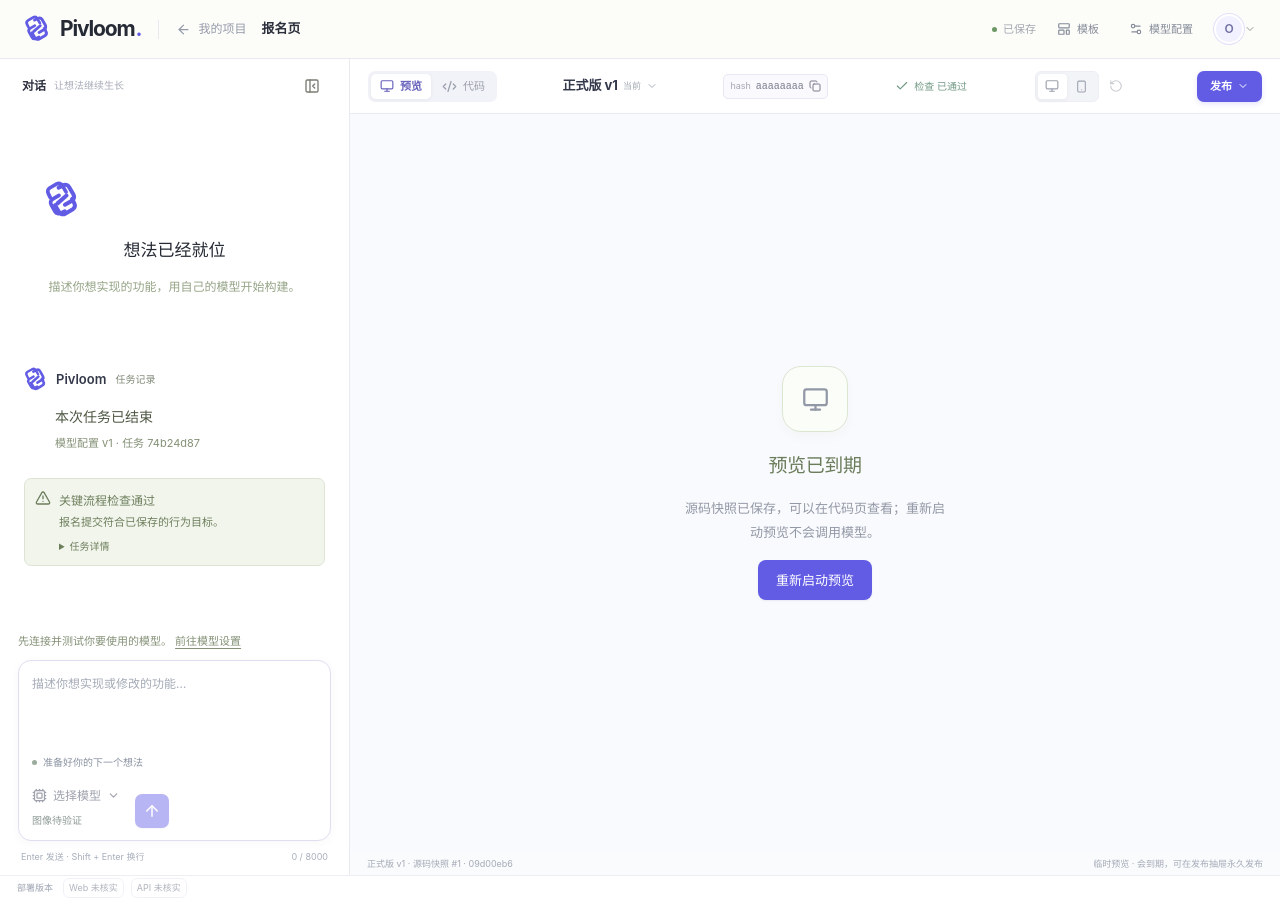
Scenario: keeps an old flat Check labeled with its original count rather than inferring five groups
What coordinates should you click on to do the following:
click the button with class "a-toolbar-check"
I would click on:
 (931, 86)
Its box is [889, 74, 973, 98].
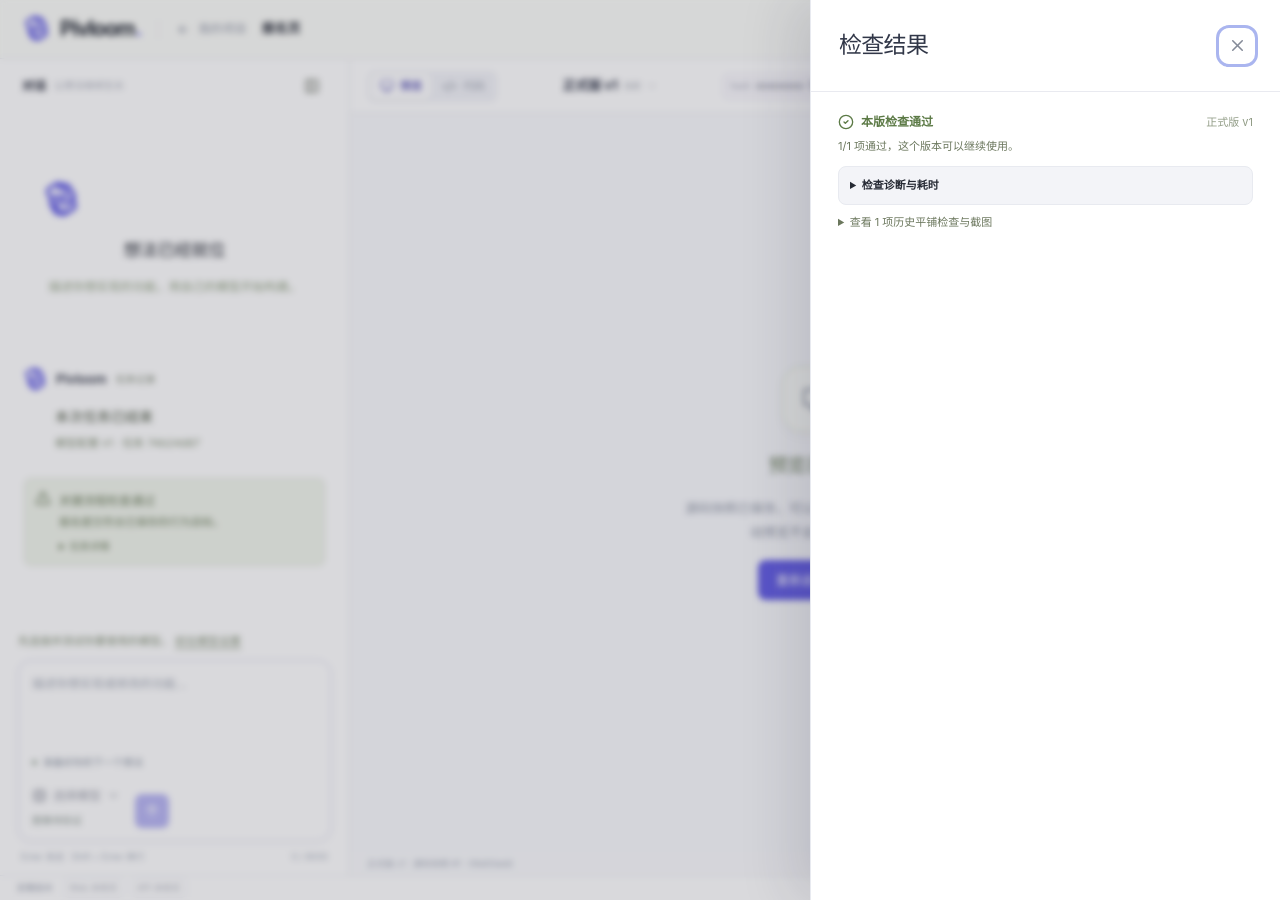
Now the element named "版本检查结果" shows "历史平铺", box [850, 215, 992, 229]
Now the element named "版本检查结果" shows "1/1", box [838, 139, 1019, 153]
